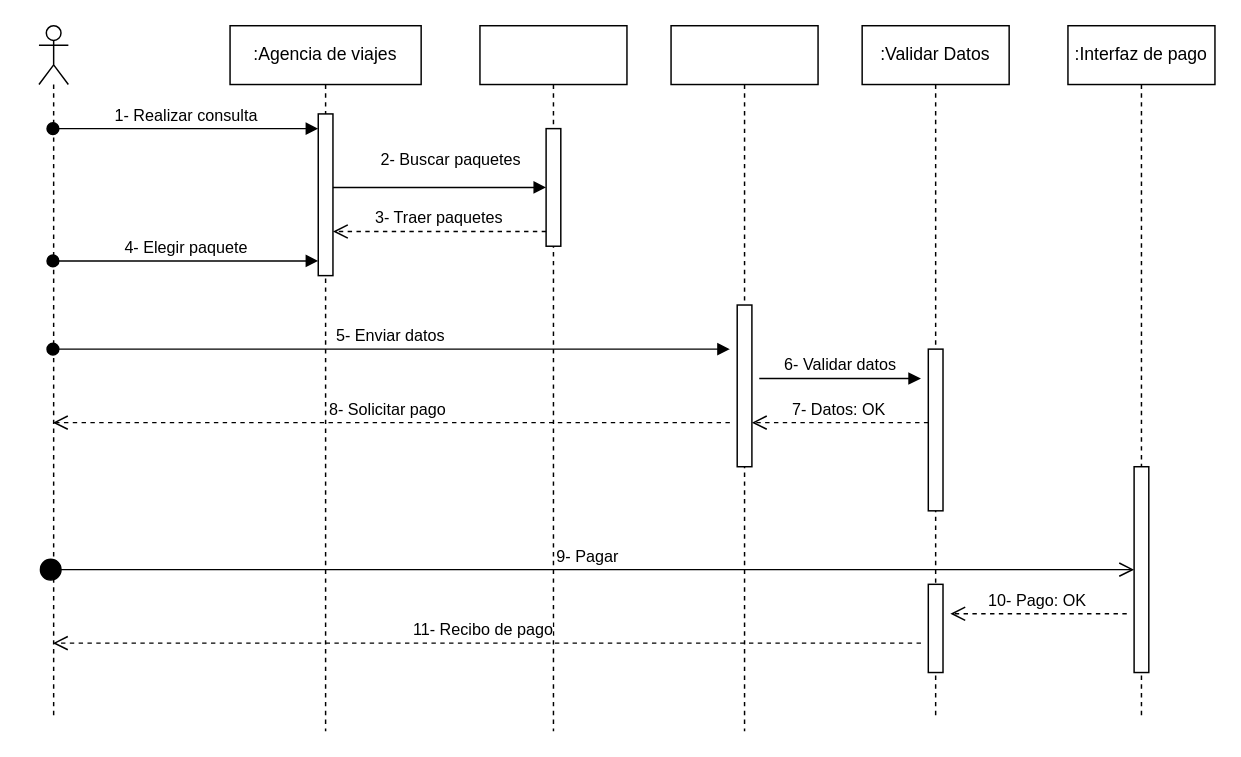
This 1241x757 diagram has some shape labels left out. The box of each missing label's shape, as (x1, y1, x2, y2) in pixels:
:Paquetes: (478, 24, 627, 731)
:Reserva Interfaz: (670, 24, 818, 731)
